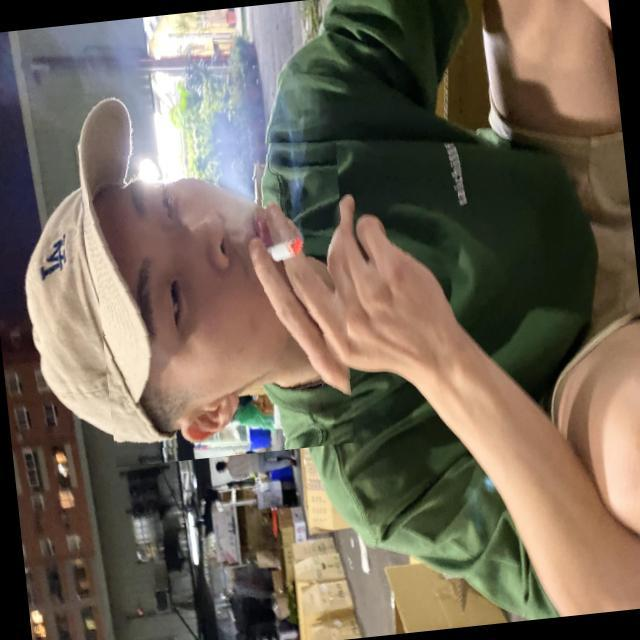cigarette: (252, 208, 320, 254)
